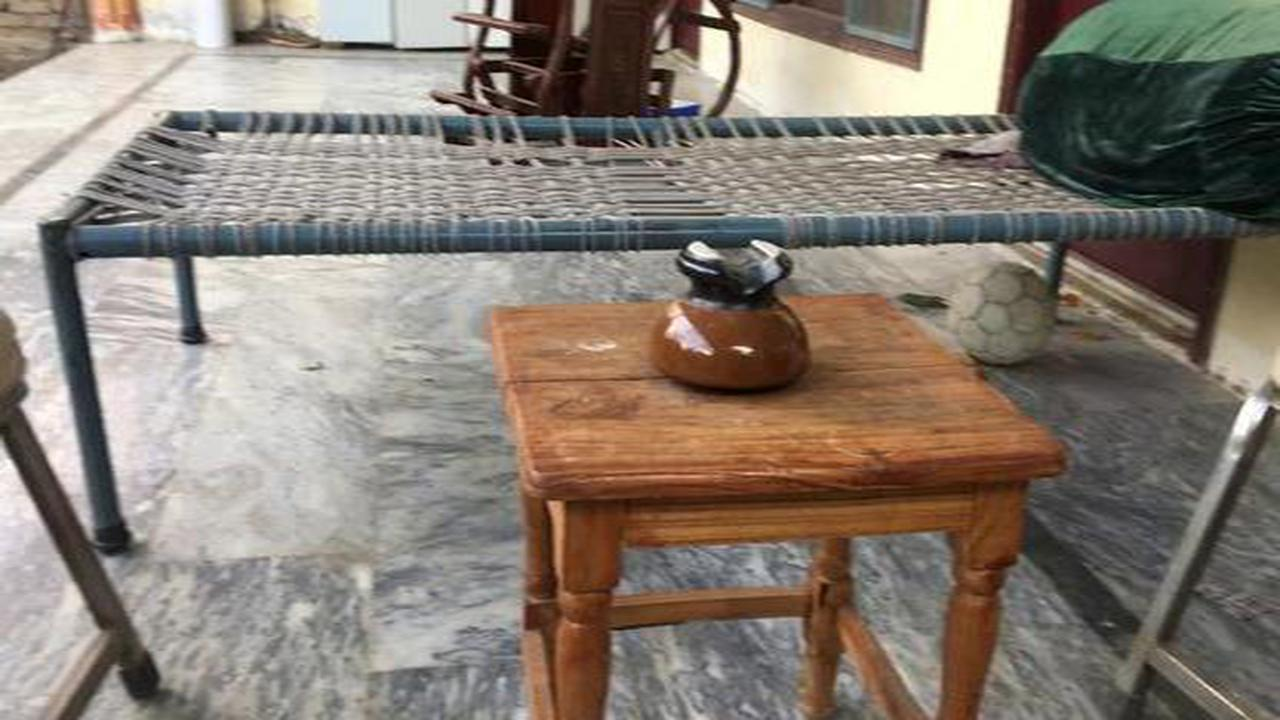insulator_pin: (628, 219, 834, 400)
